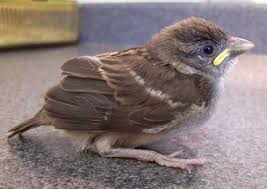hsparrow: (13, 15, 260, 169)
